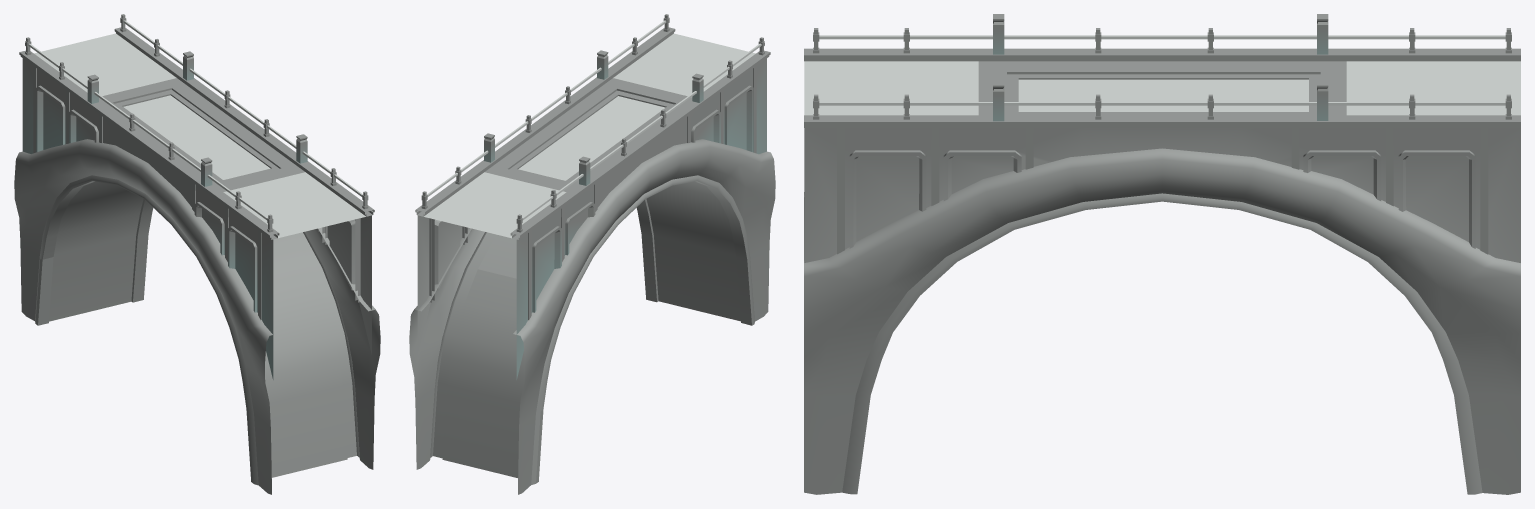
3 views of the same model, side by side, from view 1: azimuth 30°, elevation 25°; view 2: azimuth 150°, elevation 25°; view 3: azimuth 270°, elevation 25° (orthographic). The views are drawn at different scales.
Visible parts, largest first — view 1: G:\FFXIV-MapTools\exports\e3f2\bg\ex2\02_est_e3\fld\e3f2\bgp (×7); view 2: G:\FFXIV-MapTools\exports\e3f2\bg\ex2\02_est_e3\fld\e3f2\bgp (×7); view 3: G:\FFXIV-MapTools\exports\e3f2\bg\ex2\02_est_e3\fld\e3f2\bgp (×7).
Part boxes in pixels (x1,y1,x2,y2): G:\FFXIV-MapTools\exports\e3f2\bg\ex2\02_est_e3\fld\e3f2\bgp (×7): [14, 14, 380, 494]; G:\FFXIV-MapTools\exports\e3f2\bg\ex2\02_est_e3\fld\e3f2\bgp (×7): [409, 14, 775, 494]; G:\FFXIV-MapTools\exports\e3f2\bg\ex2\02_est_e3\fld\e3f2\bgp (×7): [804, 14, 1520, 494].
Size of the model in its own units: 13.47 by 31.55 by 50.
